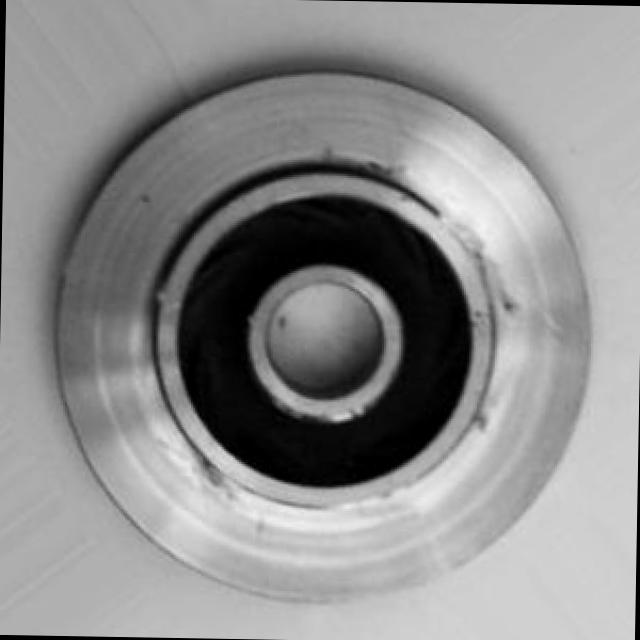Defect: (194, 453, 224, 494)
